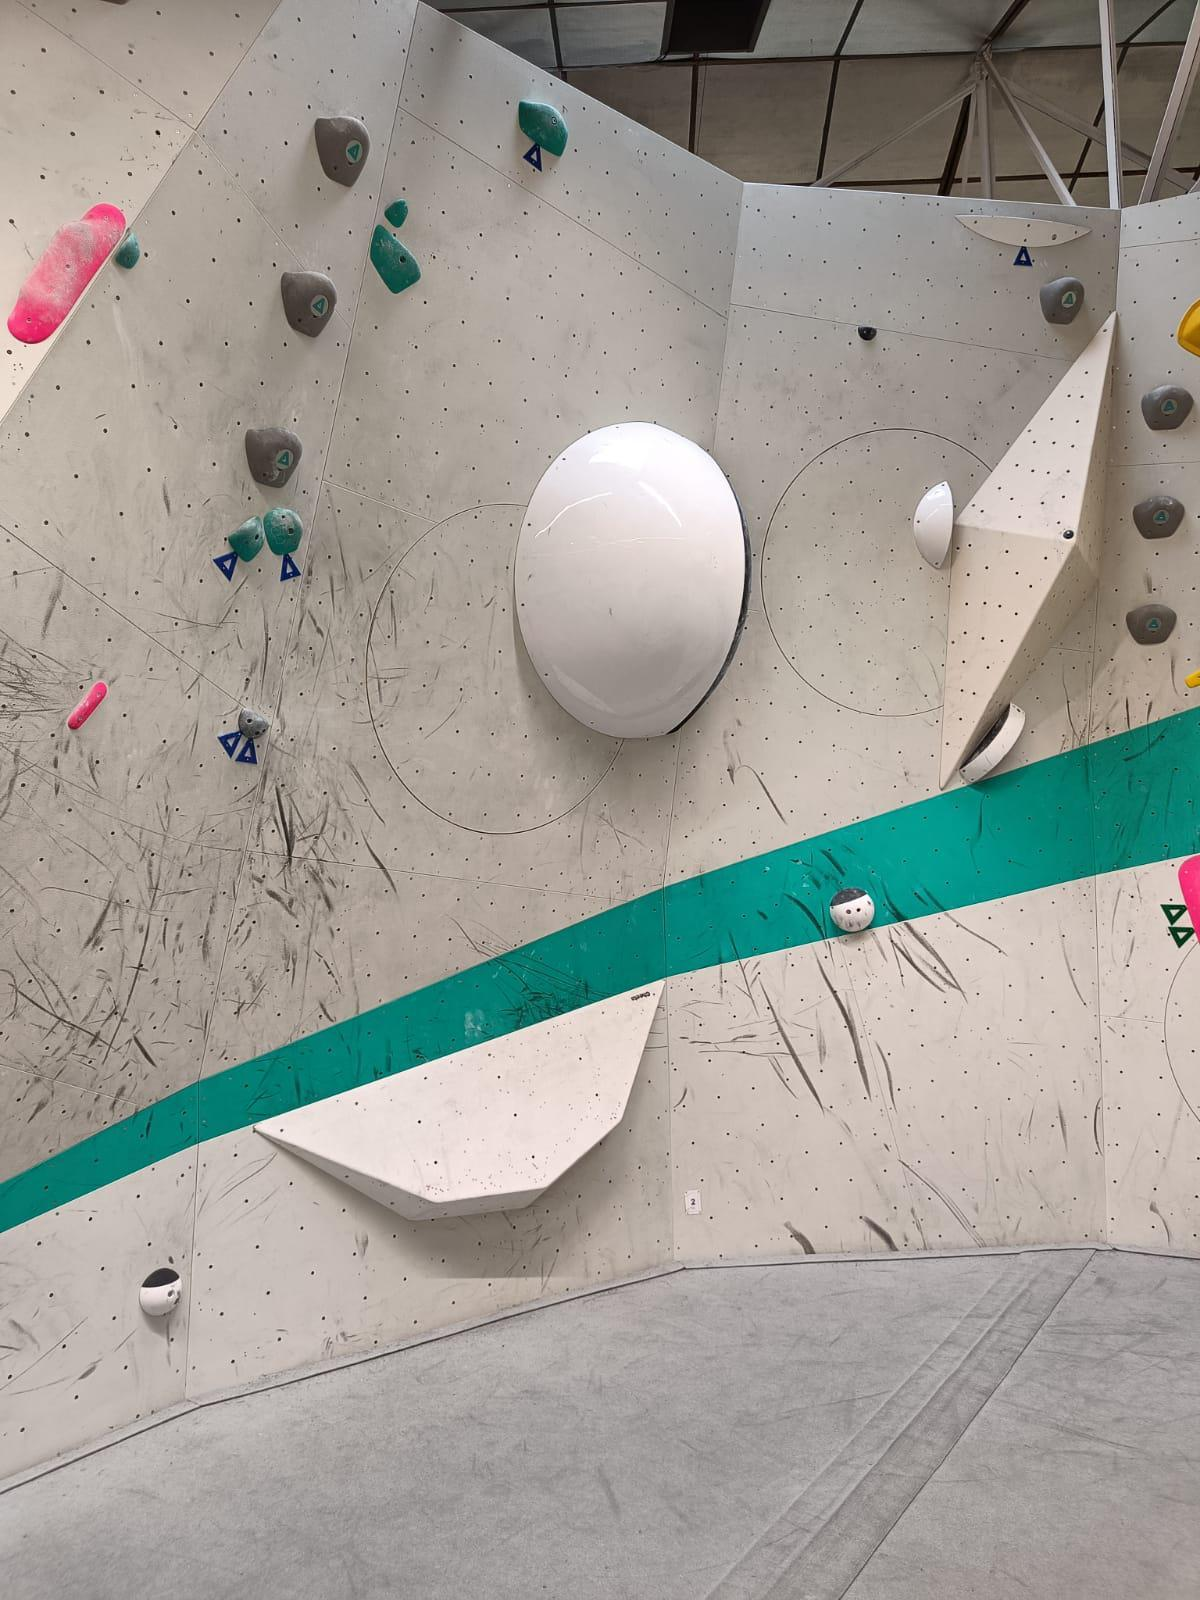hold: (253, 979, 666, 1222), (514, 421, 751, 738), (6, 203, 126, 343), (959, 702, 1025, 782), (953, 214, 1093, 247), (314, 116, 371, 186), (281, 271, 337, 338), (245, 426, 303, 488), (914, 480, 954, 568), (371, 224, 421, 294), (518, 100, 568, 156), (1141, 384, 1194, 430), (1133, 495, 1185, 539), (139, 1267, 183, 1317), (1177, 854, 1200, 946), (1126, 605, 1177, 645), (1040, 277, 1084, 324), (829, 888, 875, 932), (67, 680, 107, 729), (263, 508, 303, 554), (228, 515, 266, 562), (1176, 297, 1200, 358), (238, 708, 268, 738), (116, 232, 140, 270), (384, 198, 408, 228), (1184, 668, 1200, 688), (857, 326, 877, 340), (1063, 529, 1074, 539)
volume: (939, 311, 1118, 790)
